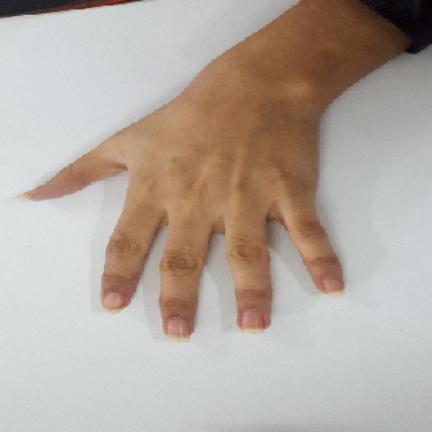Nail: (166, 317, 191, 342), (240, 308, 264, 331), (17, 182, 49, 199), (102, 292, 124, 311), (322, 277, 343, 293)
